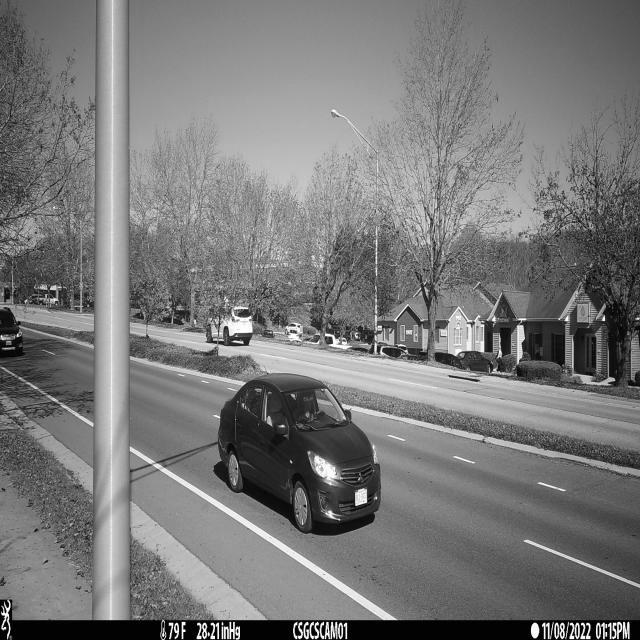Sedan: (217, 372, 381, 534)
